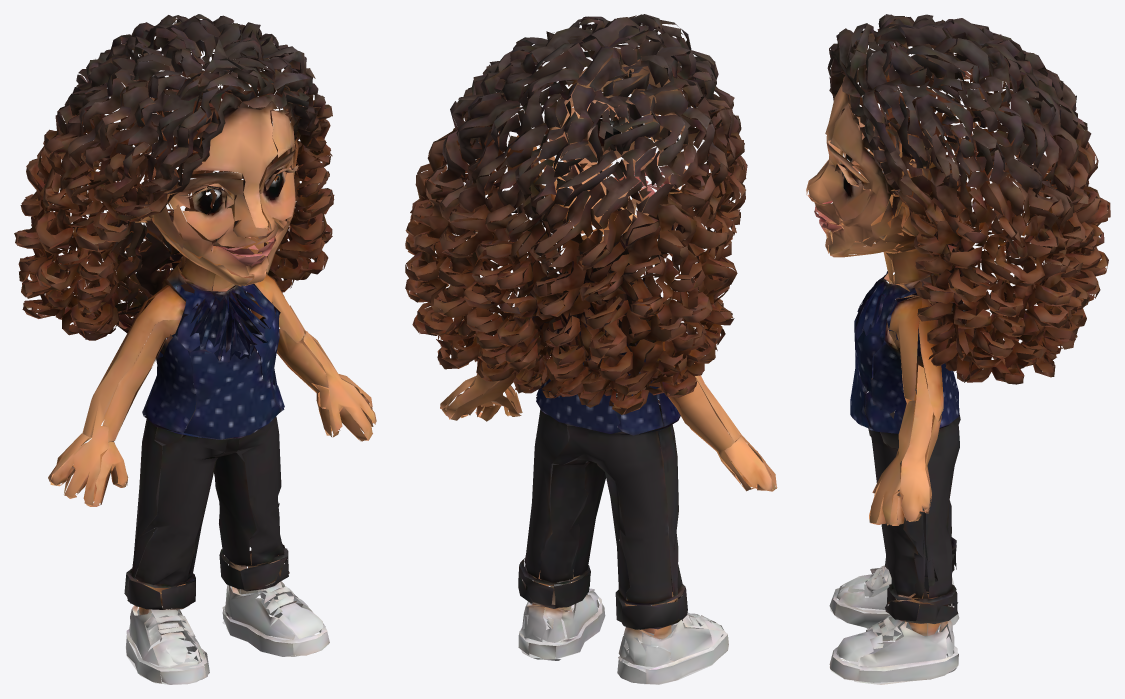
File: emily-leve.glb
3 renders of one model, left to right at view 1: azimuth 30°, elevation 25°; view 2: azimuth 150°, elevation 25°; view 3: azimuth 270°, elevation 25°, orthographic. The views are drawn at different scales.
Visible parts, largest first — view 1: Mesh_0; view 2: Mesh_0; view 3: Mesh_0.
Part boxes in pixels (<box>): Mesh_0: <box>14,14,376,684</box>; Mesh_0: <box>405,14,777,684</box>; Mesh_0: <box>806,14,1110,684</box>.
Size of the model in its own units: 0.6061 by 1.1 by 0.4929.
Materials: 1 (1 with a texture image).
